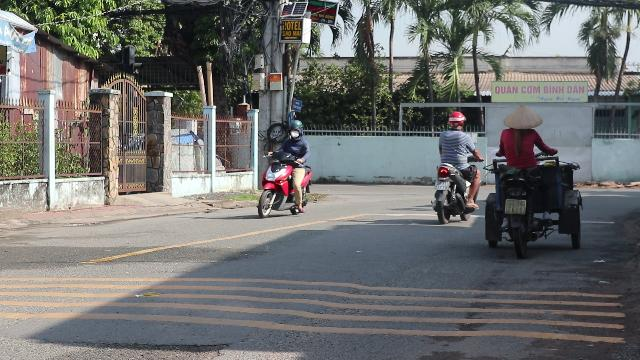helmet: (447, 110, 465, 130), (287, 119, 303, 139)
licenseplate: (504, 199, 526, 213), (435, 182, 449, 190)
motorcyclist: (482, 102, 558, 254), (256, 119, 316, 219), (430, 110, 480, 222)
nohelmet: (502, 104, 542, 134)
